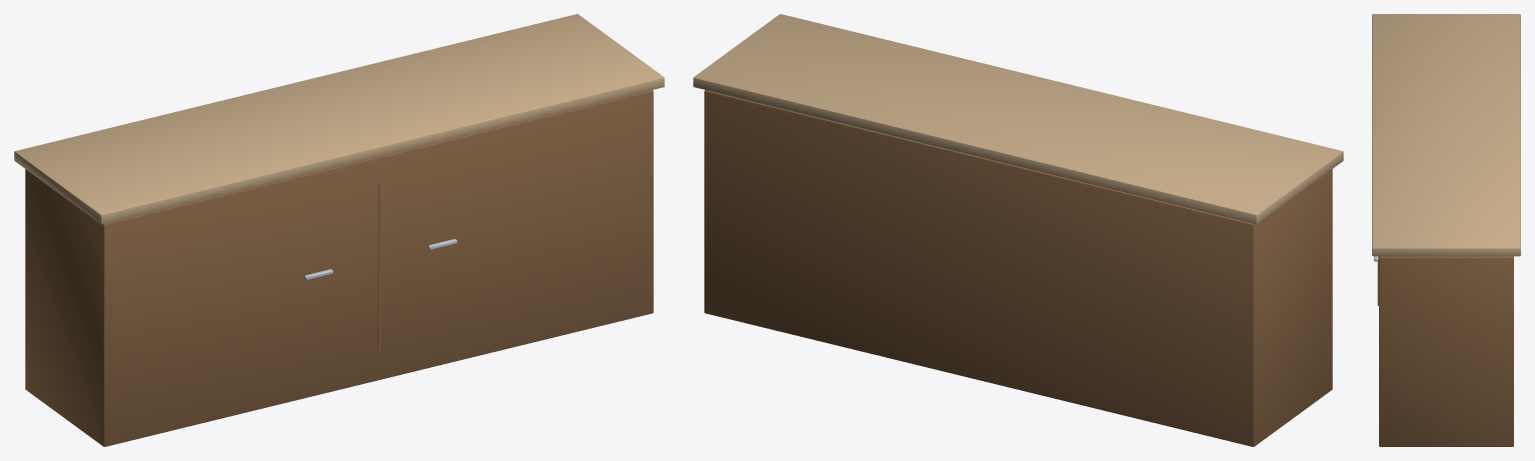
File: credenza.glb
3 renders of one model, left to right at view 1: azimuth 30°, elevation 25°; view 2: azimuth 150°, elevation 25°; view 3: azimuth 270°, elevation 25°, orthographic. The views are drawn at different scales.
Parts seen in each view (by area): view 1: credenza; view 2: credenza; view 3: credenza.
Part boxes in pixels (bbox=[...]): credenza: bbox=[14, 14, 664, 446]; credenza: bbox=[693, 14, 1343, 446]; credenza: bbox=[1372, 14, 1520, 446].
Size of the model in its own units: 1.64 by 0.66 by 0.44.
